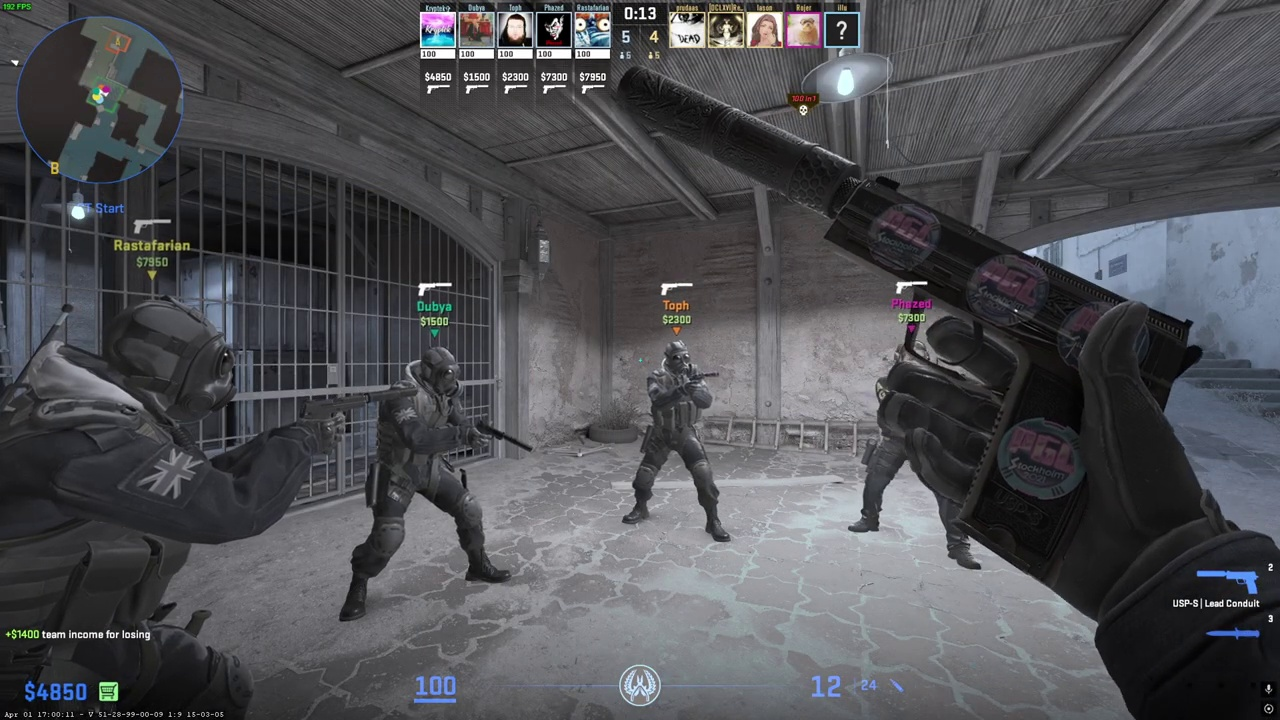CT: (0, 298, 261, 720), (354, 346, 510, 611), (627, 341, 731, 541)
